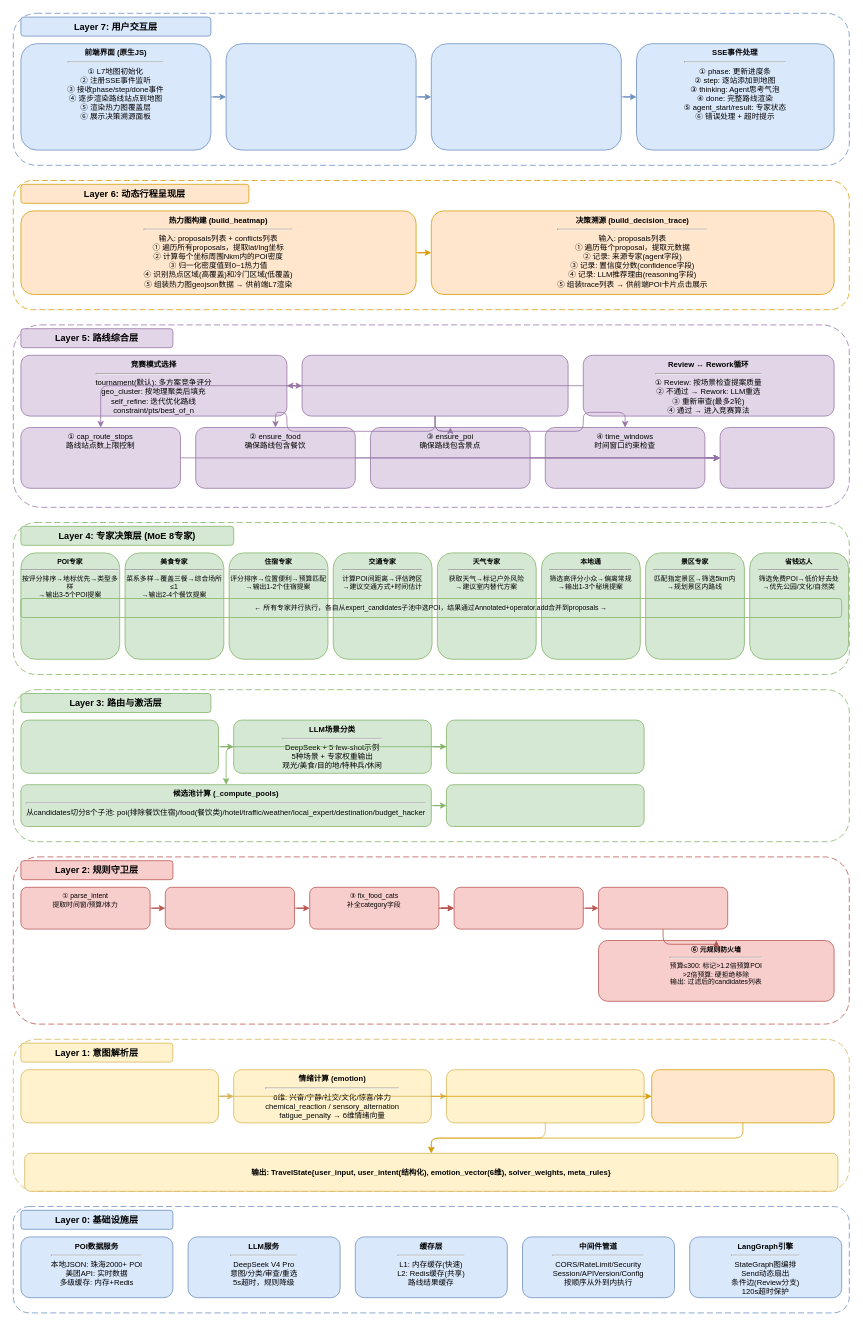
Image size: 863x1326. Some labels were removed from this diagram. The centre of each missing label's shape, as x and y in pixels:
parse_intent() ① 尝试LLM解析自然语言 ② LLM失败→规则解析 输出: 结构化intent dict: the point at 119,1096
② fetch_pois 美团API→本地JSON: the point at 229,908
④ filter_candidates 时间/预算/评分筛选: the point at 518,908
⑤ dedup 站点去重: the point at 776,457
⑤ ensure_key_pois LLM补充关键POI: the point at 663,908
偏好融合 (可选) LTM预测 + 天气/时间/季节 WeightMapper→求解器权重: the point at 742,1096
动态扇出 (Send) LangGraph Send机制 只激活active_experts中的专家 每个专家收到各自候选池: the point at 545,805
标准化处理 _normalize_scene_type: 别名映射 poi权重强制≥0.3 筛选active_experts(权重≥0.3): the point at 545,746
画像匹配 (_match_profile) 20组预设画像(P1-P20) 按人数/类型/预算匹配 合并画像偏好到intent: the point at 545,1096
聊天交互 ① 用户输入框(自然语言) ② 聊天记录展示 ③ LLM思考过程实时显示 ④ 路线卡片展示 ⑤ POI详情卡片(点击查看理由) ⑥ 情绪曲线可视化: the point at 320,96
规则预检 (_rule_precheck) 无歧义关键词直接分类: 长隆→目的地型 / 特种兵→特种兵型 美食游→美食型 → 跳过LLM: the point at 119,746
调整操作面板 ① 替换POI按钮 ② 节奏滑块(快/慢) ③ 预算调整输入 ④ 时间窗修改 ⑤ 确认/重新规划按钮 ⑥ 最多10轮交互: the point at 526,96
运行竞赛算法 ① 多个候选方案并行评估 ② 评分维度: 地理紧凑性/时间可行/偏好匹配/多样性 ③ 选出最高分路线组合 ④ ADR: 防止所有方案趋同: the point at 434,385
